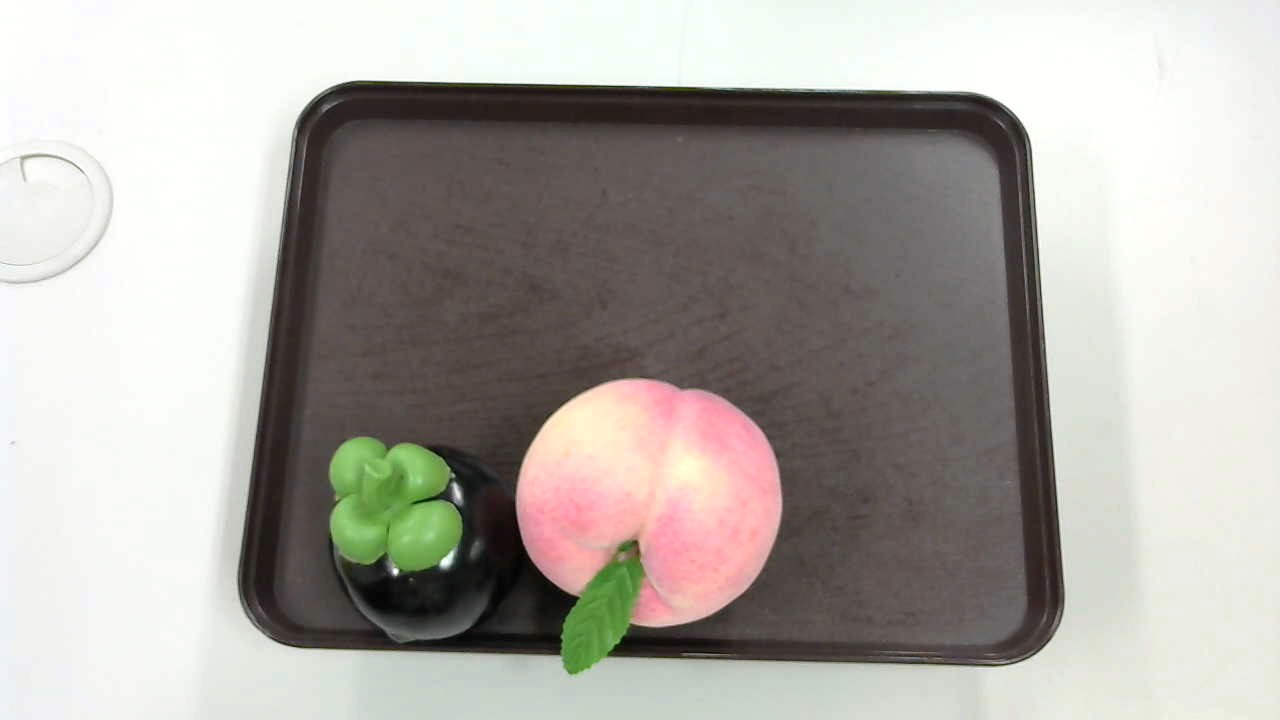mangosteen: (316, 430, 517, 644)
peach: (503, 369, 793, 688)
